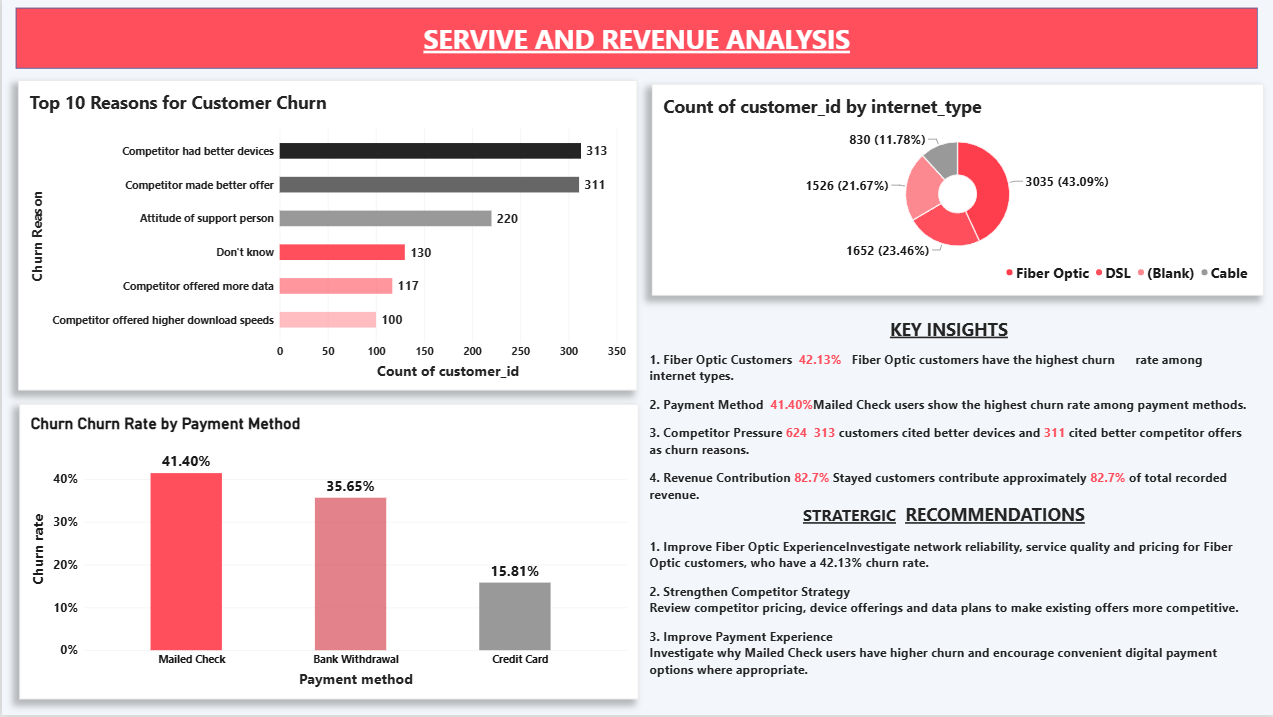

This screenshot's page, from the dashboard's own definition file:
{"tool":"powerbi","page":{"name":"SERVICE & REVENUE ANALYSIS","canvas":[1920,1080],"ordinal":2},"visuals":[{"type":"clusteredBarChart","title":"Top 10 Reasons for Customer Churn","fields":{"Category":["public telecom_customers.churn_reason"],"Y":["CountNonNull(public telecom_customers.customer_id)"]},"box":[24.8,122.3,934.4,468.2],"z":1},{"type":"donutChart","fields":{"Category":["public telecom_customers.internet_type"],"Y":["CountNonNull(public telecom_customers.customer_id)"]},"box":[980.3,128,922.9,319.5],"z":2},{"type":"clusteredColumnChart","title":"Churn Churn Rate by Payment Method","fields":{"Category":["public telecom_customers.payment_method"],"Y":["public telecom_customers.Churn Rate"]},"box":[26.8,611.5,934.4,445.2],"z":3},{"type":"textbox","title":"KEY INSIGHTS","box":[976.8,478.5,903.8,581.3],"z":4},{"type":"shape","box":[21,13.4,1874.5,91.7],"z":5}]}

Visuals, with their boxes in screenshot pixels (x1, y1, x2, y2), scaled from the page's 1920x1080 canvas onto the 1273x717 screenshot:
"Top 10 Reasons for Customer Churn" clusteredBarChart: pyautogui.locateOnScreen(16, 81, 636, 392)
donutChart - public telecom_customers.internet_type x CountNonNull(public telecom_customers.customer_id): pyautogui.locateOnScreen(650, 85, 1262, 297)
"Churn Churn Rate by Payment Method" clusteredColumnChart: pyautogui.locateOnScreen(18, 406, 637, 702)
"KEY INSIGHTS" textbox: pyautogui.locateOnScreen(648, 318, 1247, 704)
shape: pyautogui.locateOnScreen(14, 9, 1257, 70)
